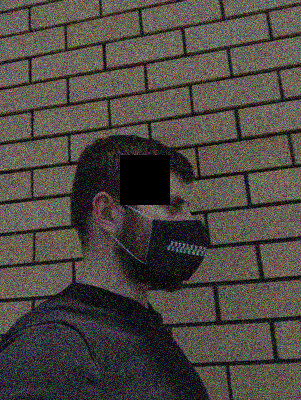with_mask: (143, 190, 207, 293)
